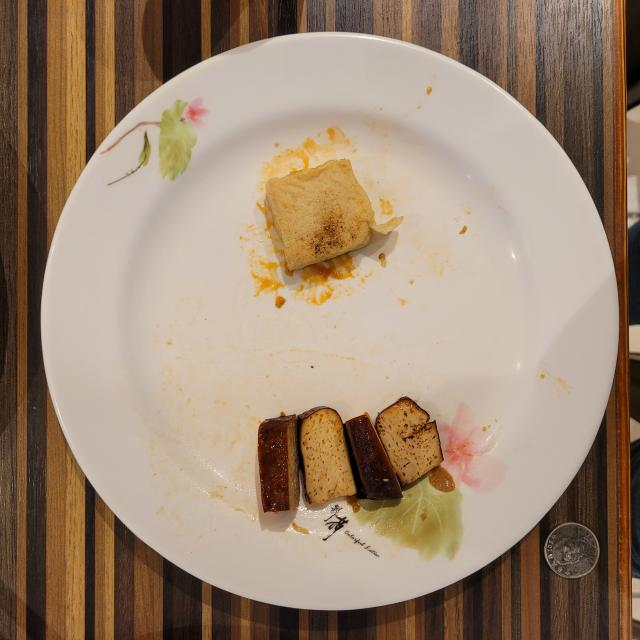coin: (544, 522, 600, 579)
creamy tofu -without sauce-: (266, 159, 402, 271)
firm tofu: (258, 398, 444, 512)
